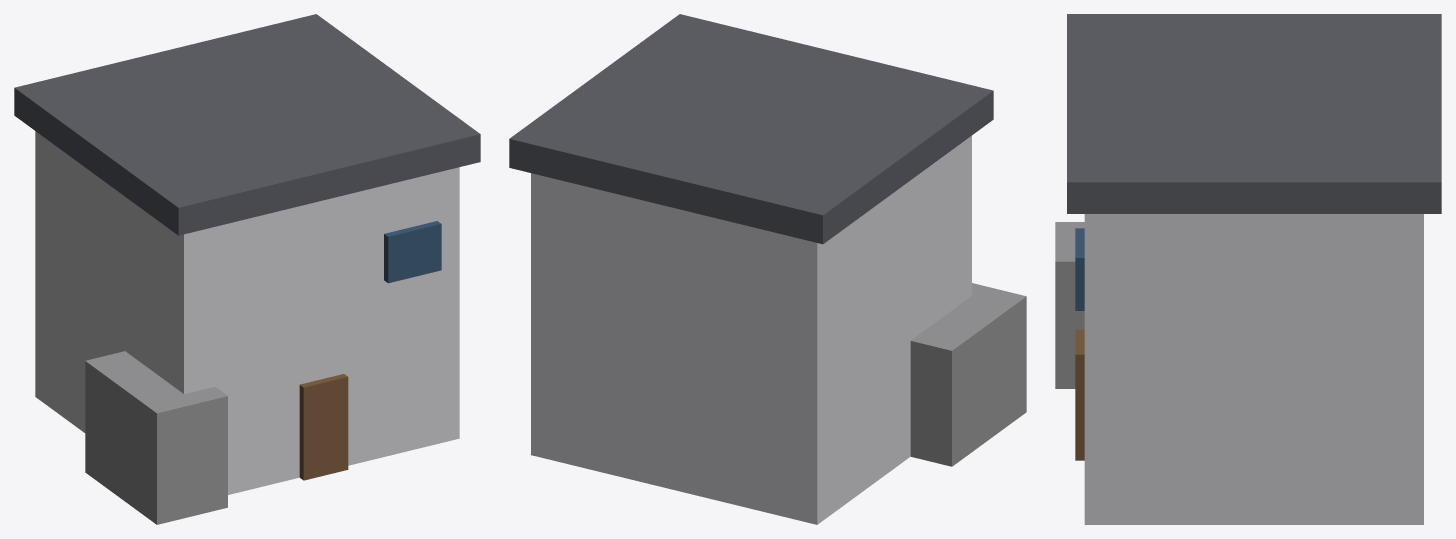
File: house_2012.glb
3 views of the same model, side by side, from view 1: azimuth 30°, elevation 25°; view 2: azimuth 150°, elevation 25°; view 3: azimuth 270°, elevation 25° (orthographic). The views are drawn at different scales.
Parts seen in each view (by area): view 1: Walls, Roof, Garage, Door, Window; view 2: Walls, Roof, Garage; view 3: Walls, Roof, Garage, Door, Window.
Part boxes in pixels (box(x1,y1,x2,y2)): Walls: box(35, 131, 459, 494); Roof: box(14, 14, 480, 235); Garage: box(85, 351, 227, 524); Door: box(299, 374, 348, 480); Window: box(384, 221, 441, 283); Walls: box(531, 135, 971, 524); Roof: box(509, 14, 993, 244); Garage: box(910, 283, 1026, 466); Walls: box(1084, 214, 1423, 524); Roof: box(1067, 14, 1441, 213); Garage: box(1055, 222, 1084, 388); Door: box(1075, 329, 1084, 460); Window: box(1075, 228, 1084, 310).
Bounding box in the file's own units: 0.74 × 0.66 × 0.66.
